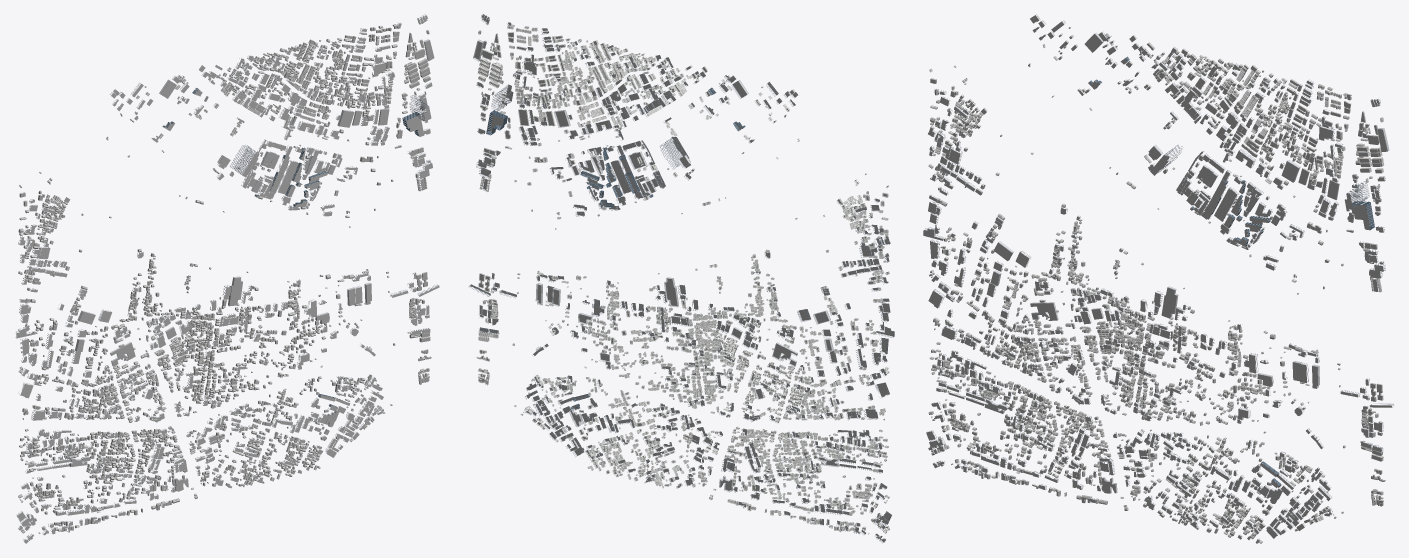
The model's file is buildings_4_3.obj.
3 renders of one model, left to right at view 1: azimuth 30°, elevation 25°; view 2: azimuth 150°, elevation 25°; view 3: azimuth 330°, elevation 25°, orthographic. The views are drawn at different scales.
Bounding box in the file's own units: 2073 × 2029 × 138.
6 materials, 6 textured.
